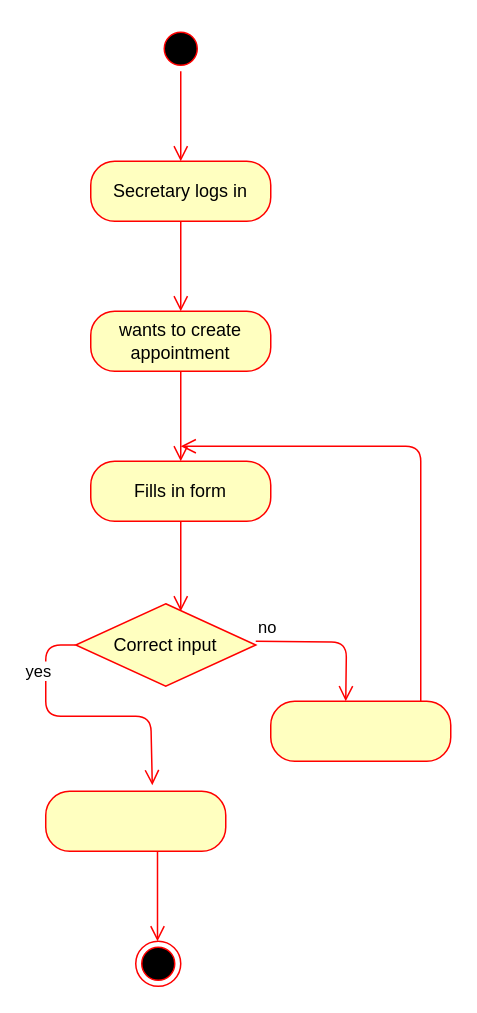
This 477x1013 diagram has some shape labels left out. The box of each missing label's shape, as (x1, y1, x2, y2) in pixels:
Appointment created successfully: (44, 790, 226, 851)
Shows error: (269, 700, 451, 761)
